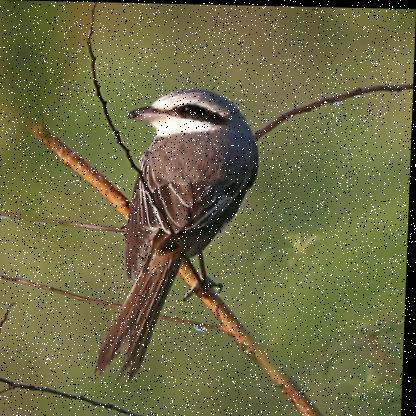Burung: (88, 86, 262, 386)
